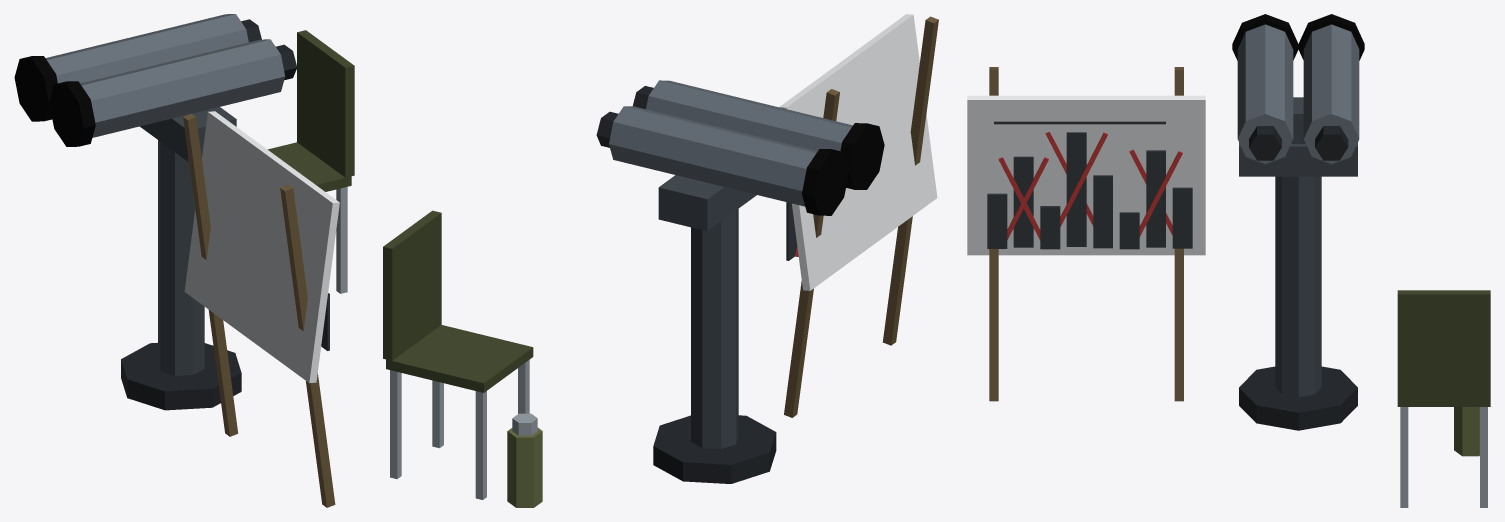
File: egg_carrier_lookout.fbx
3 views of the same model, side by side, from view 1: azimuth 30°, elevation 25°; view 2: azimuth 150°, elevation 25°; view 3: azimuth 270°, elevation 25° (orthographic). The views are drawn at different scales.
Visible parts, largest first — view 1: egg_carrier_lookout; view 2: egg_carrier_lookout; view 3: egg_carrier_lookout.
Part boxes in pixels (x1,y1,x2,y2): egg_carrier_lookout: (14, 14, 354, 507); egg_carrier_lookout: (383, 14, 938, 507); egg_carrier_lookout: (967, 14, 1490, 507).
Bounding box in the file's own units: 595 × 551 × 790.
